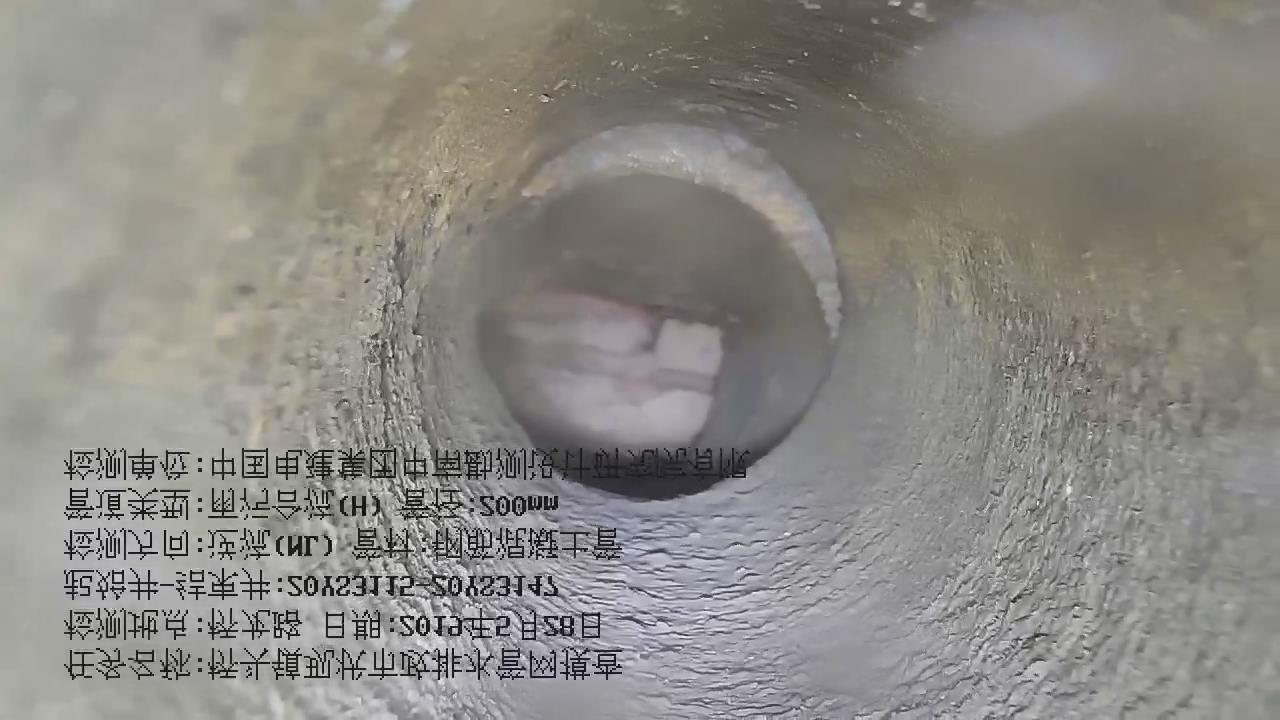CKTJ: (521, 123, 841, 339)
CQBG: (488, 290, 725, 449)
